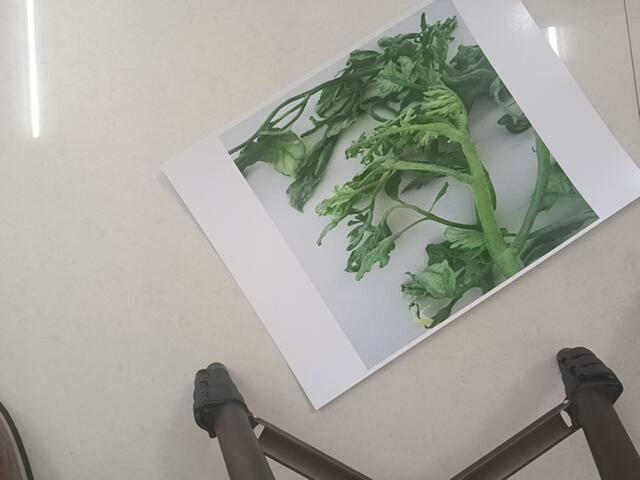Tomamto_Mosaic_virus: (240, 35, 609, 326)
